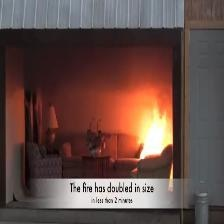fire: (135, 94, 171, 155)
